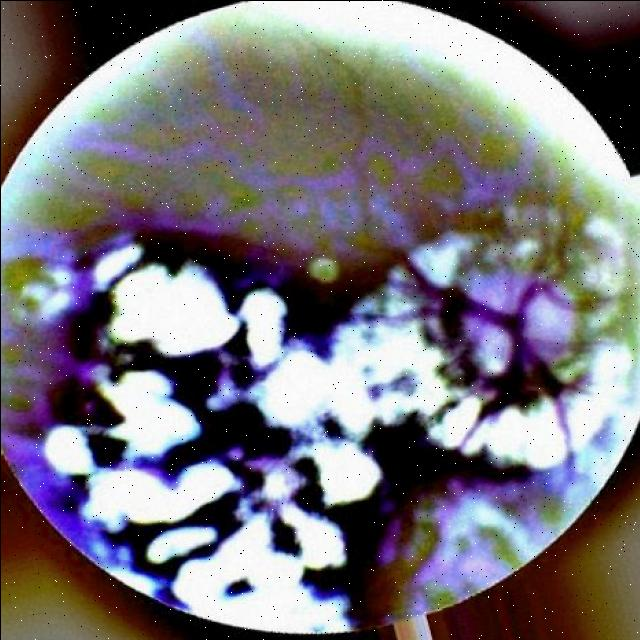Nerves: (467, 266, 573, 456)
Optic Disk: (456, 269, 571, 374)
